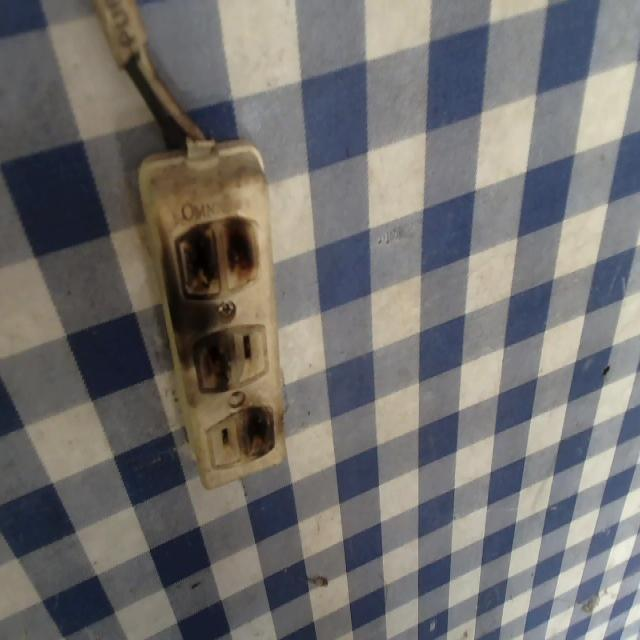-: (165, 210, 263, 302), (177, 316, 242, 399), (236, 403, 280, 460)
